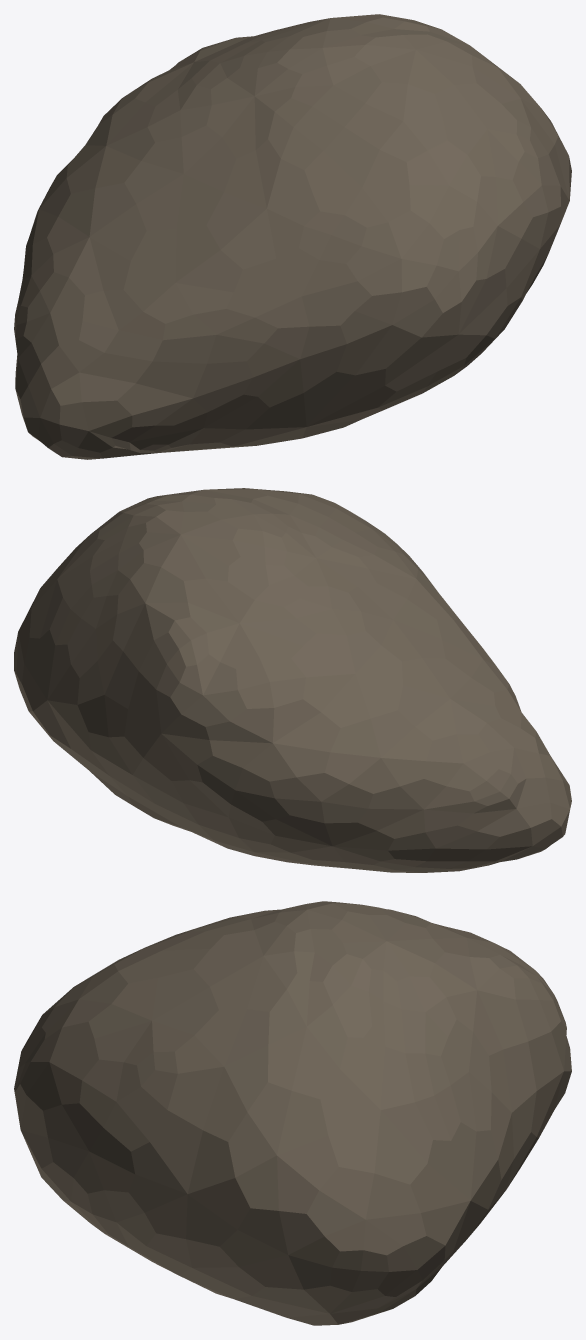
The model's file is rock_3.fbx.
3 views of the same model, one above another, from view 1: azimuth 30°, elevation 25°; view 2: azimuth 150°, elevation 25°; view 3: azimuth 270°, elevation 25° (orthographic). The views are drawn at different scales.
Parts seen in each view (by area): view 1: rock 3; view 2: rock 3; view 3: rock 3.
Boxes of the visible parts, x1=… form: rock 3: x1=14, y1=14, x2=571, y2=459; rock 3: x1=14, y1=488, x2=571, y2=872; rock 3: x1=14, y1=901, x2=571, y2=1325.
Size of the model in its own units: 350 by 204 by 272.
